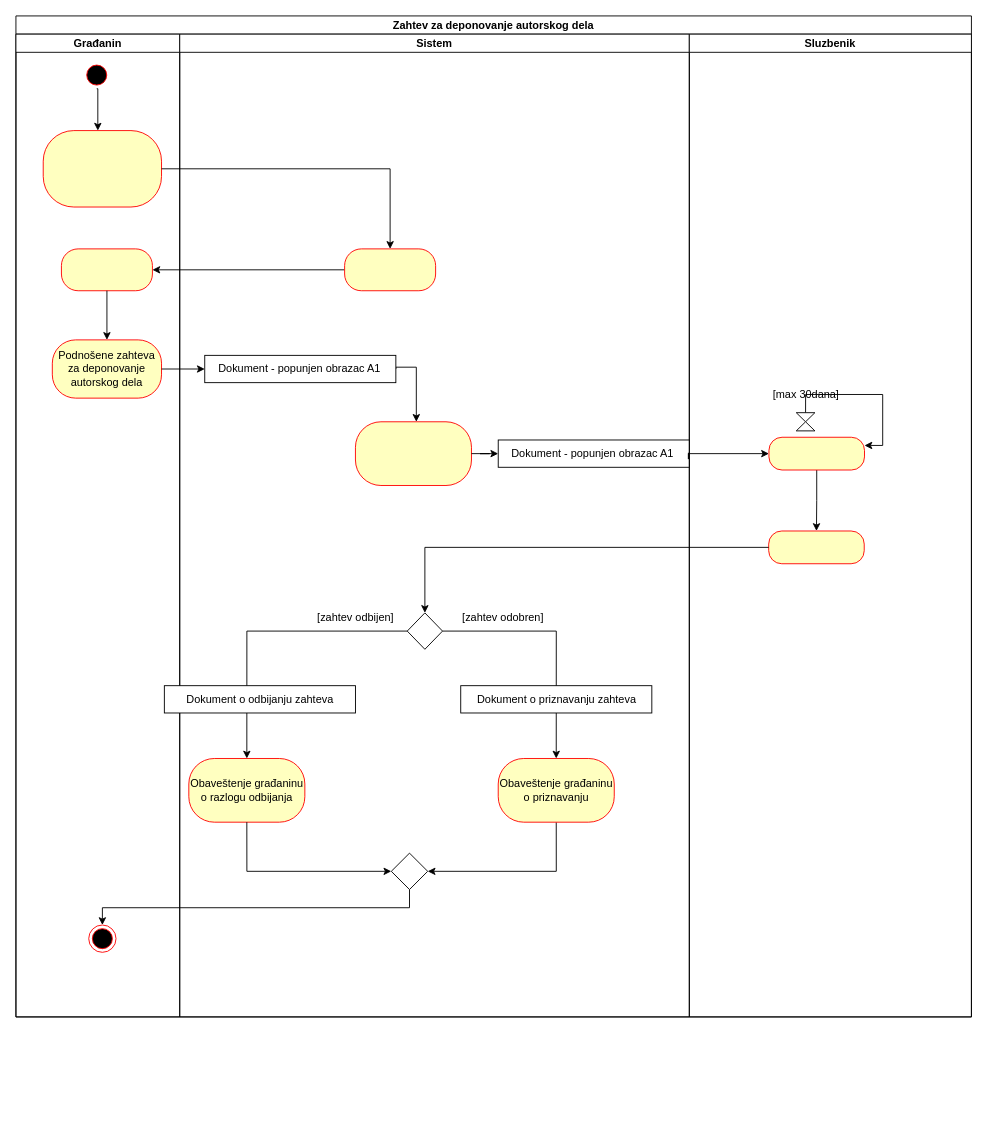
Image size: 987x1131. Some labels were removed from this diagram. Here are the shapes that lost their labels. From the top down, the centre of each, then its label:
At pixel 102 168: "Iskazivanje interesovanja za deponovanje autorskog dela prijavom na sistem".
At pixel 106 269: "Popunjavanje forme".
At pixel 390 269: "Prikaz forme za popunjavanje obrasca A-1".
At pixel 413 453: "Obaveštavanje građaninu o uspešnom podnesku zahteva".
At pixel 816 453: "Obrada zahteva".
At pixel 816 547: "Donošenje rešenja o zahtevu".
